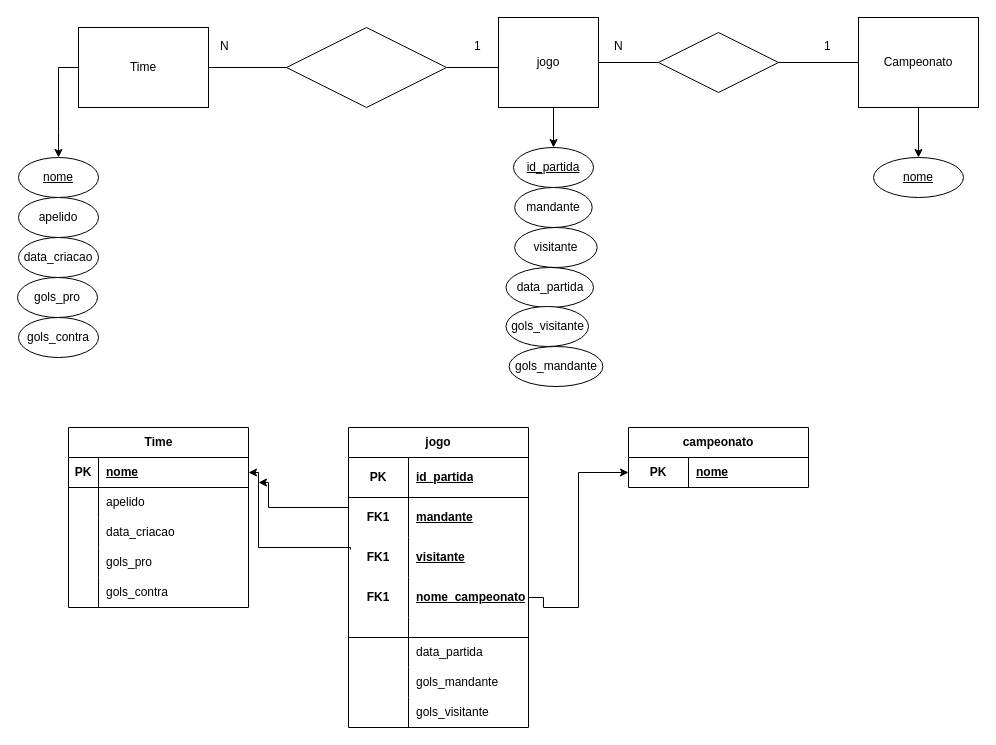
This 996x745 diagram has some shape labels left out. The box of each missing label's shape, as (x1, y1, x2, y2) in pixels:
disputa: (286, 26, 446, 108)
pertence: (658, 32, 778, 92)
